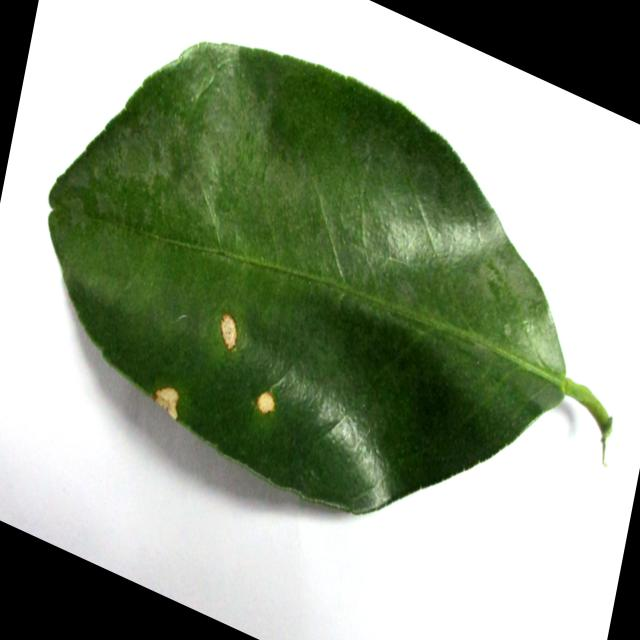antracnose: (49, 43, 612, 512), (154, 388, 179, 419), (221, 314, 237, 350), (257, 392, 275, 414)
